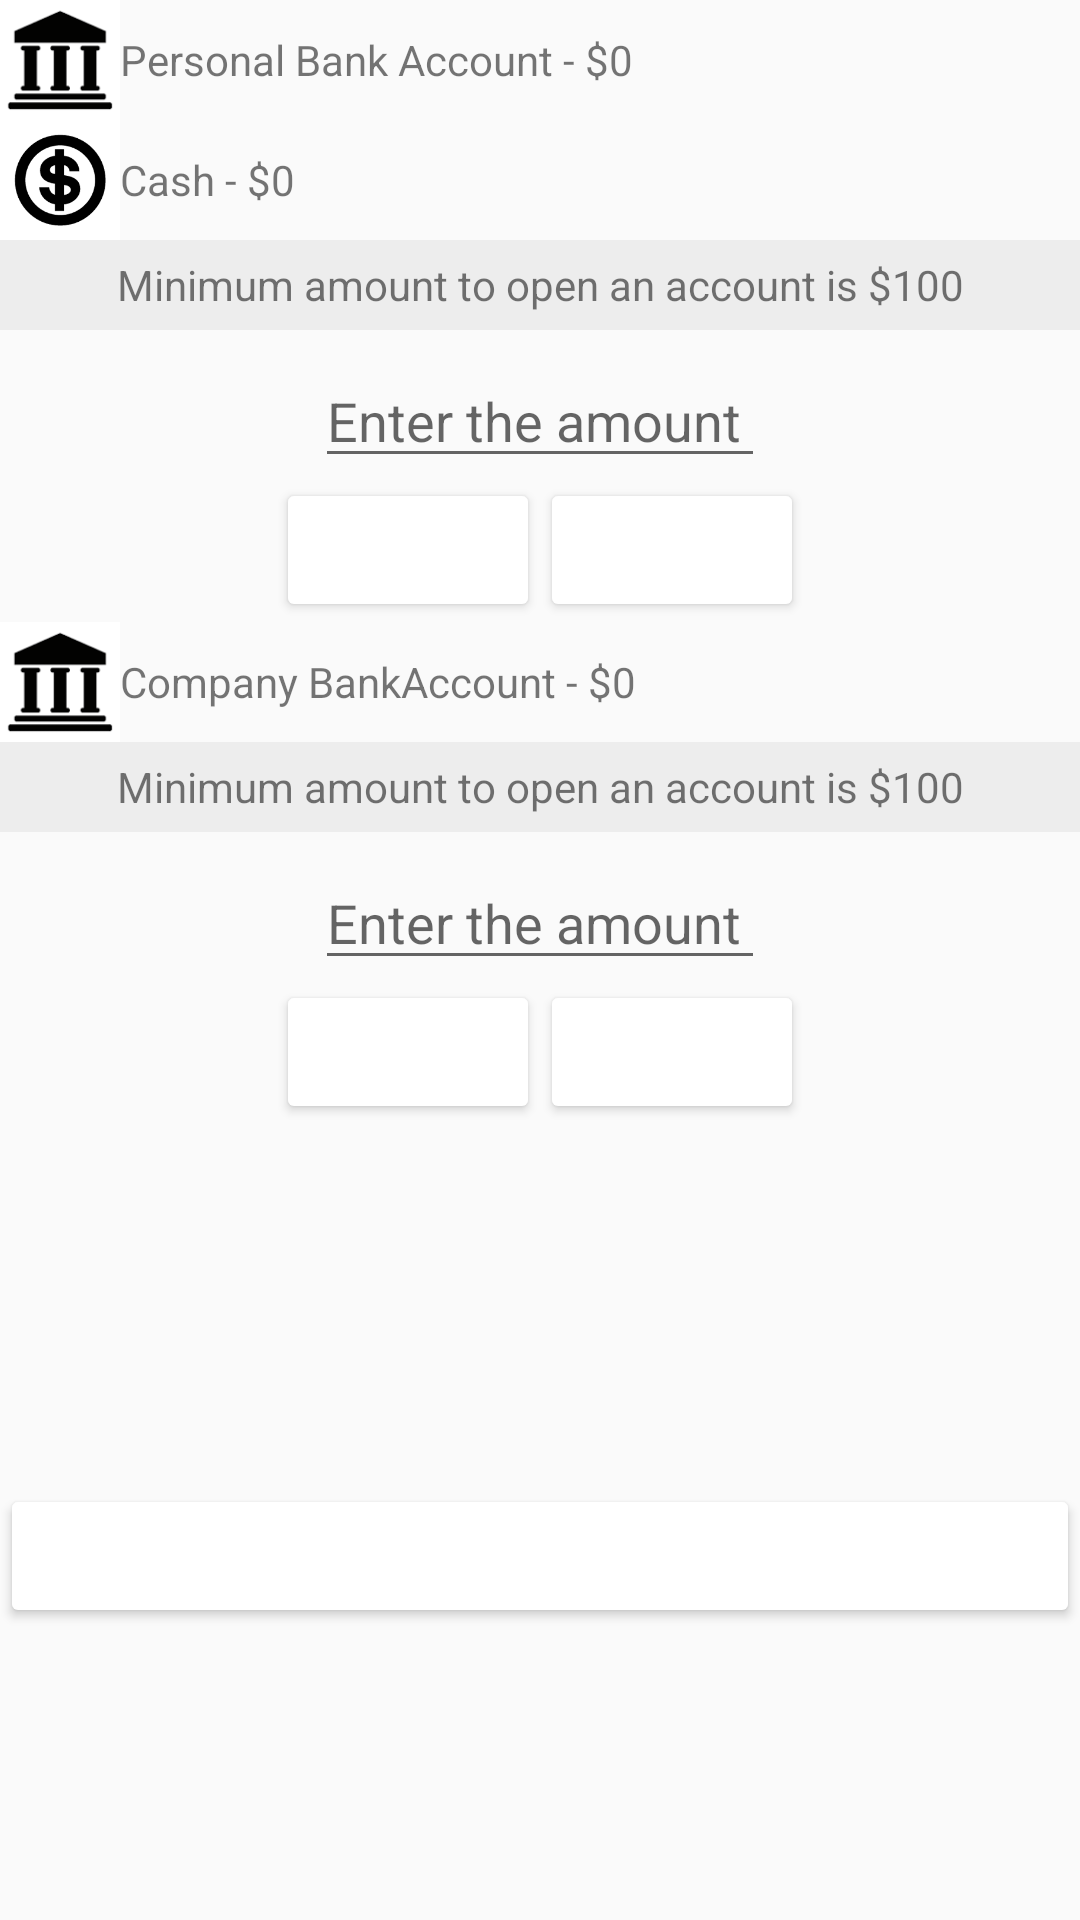

Screen size 1080*1920. Icon name, then its center in pixels as (x,y):
dollar: (60,180)
